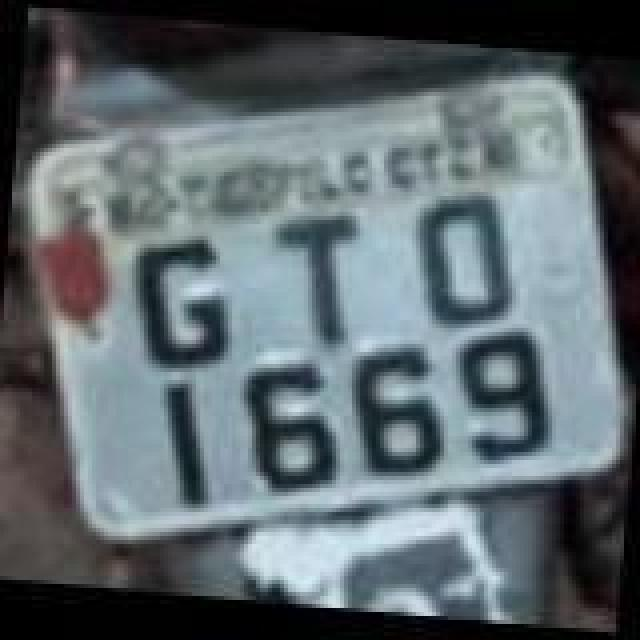1: (142, 376, 226, 504)
6: (230, 354, 346, 494), (336, 336, 448, 480)
9: (446, 316, 562, 468)
G: (118, 232, 242, 376)
O: (400, 194, 520, 334)
T: (258, 206, 366, 354)
